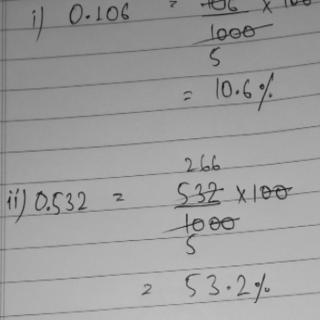.: (44, 204, 52, 212), (234, 87, 241, 95), (225, 283, 231, 290)
0: (33, 188, 48, 212), (220, 78, 233, 100)
1: (214, 77, 220, 100)
2: (234, 273, 252, 297), (76, 189, 91, 213), (181, 154, 198, 174)
3: (205, 273, 221, 297), (63, 190, 75, 213)
5: (183, 272, 203, 299), (207, 44, 224, 69), (50, 189, 65, 216), (184, 233, 197, 256)
6: (198, 150, 210, 173), (242, 77, 254, 100), (210, 151, 221, 171)
